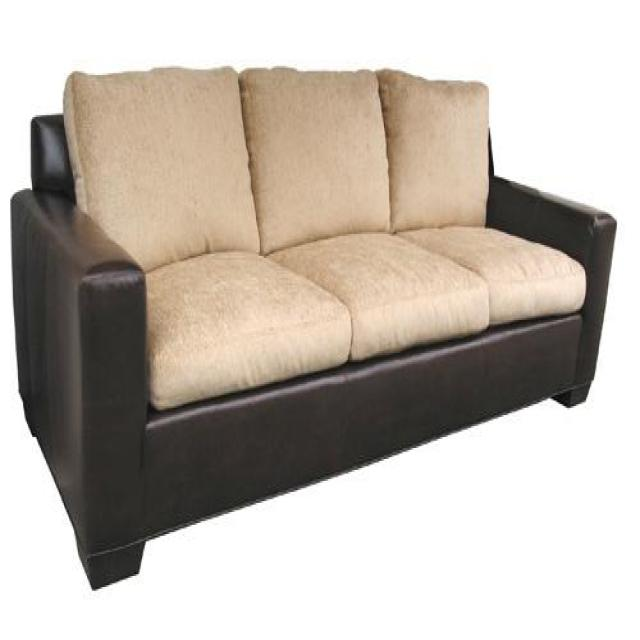sofa: (10, 64, 618, 590)
